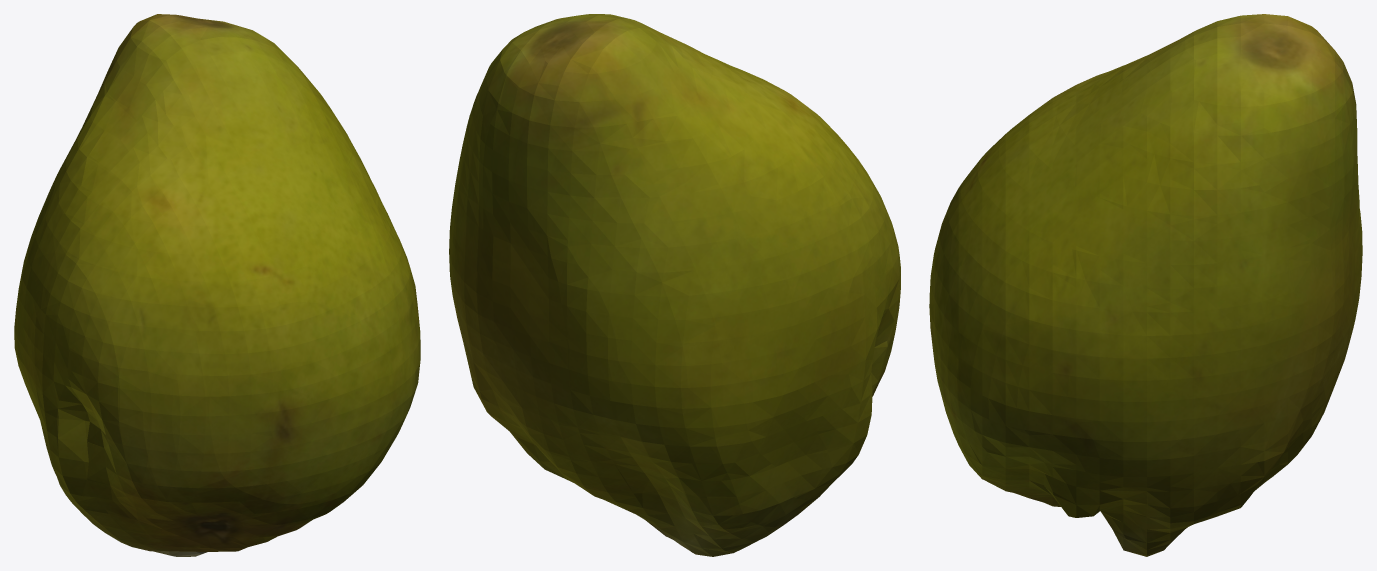
File: pear.obj
3 views of the same model, side by side, from view 1: azimuth 30°, elevation 25°; view 2: azimuth 150°, elevation 25°; view 3: azimuth 270°, elevation 25° (orthographic). The views are drawn at different scales.
Visible parts, largest first — view 1: pear; view 2: pear; view 3: pear.
Boxes of the visible parts, x1,y1,x2,y2 form: pear: [14, 14, 420, 556]; pear: [449, 14, 900, 556]; pear: [929, 14, 1362, 556].
Bounding box in the file's own units: 0.4845 × 0.6496 × 0.4749.
Materials: 1 (1 with a texture image).
